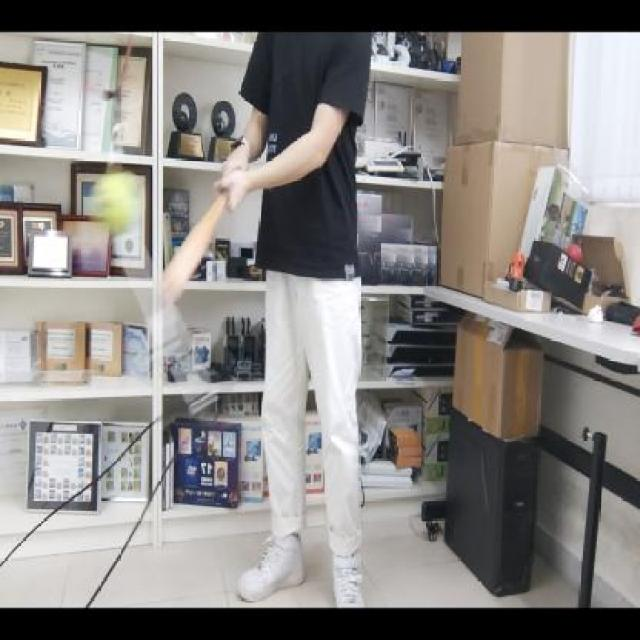baseball: (90, 171, 142, 232)
